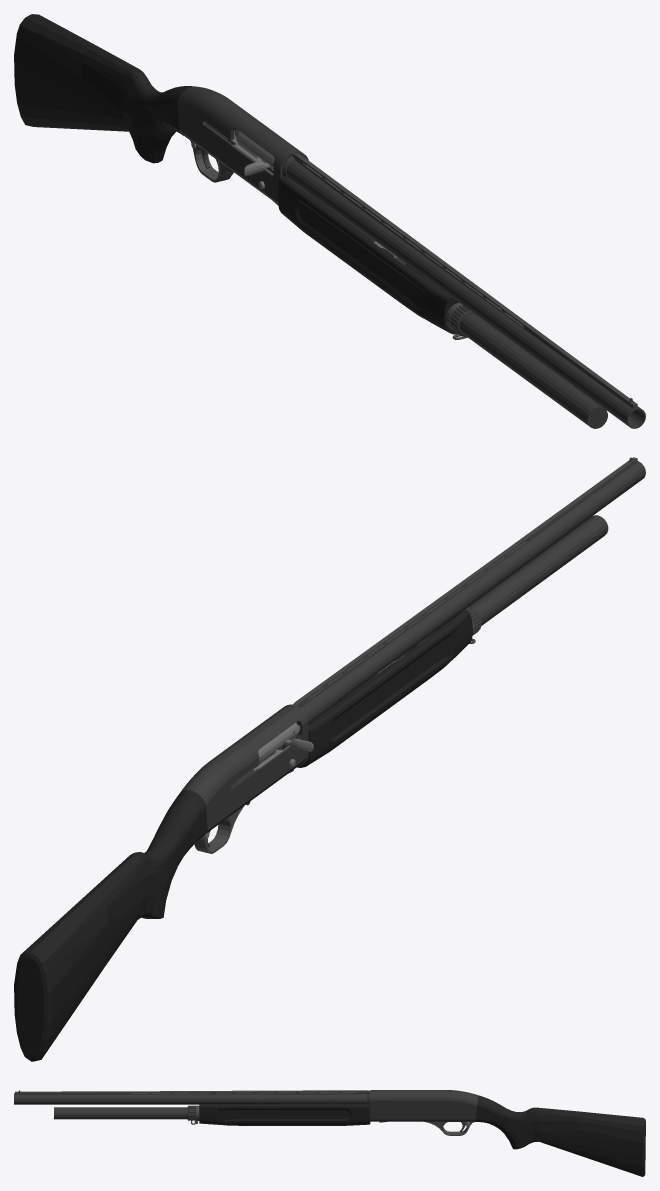
The model's file is MP153 World.fbx.
3 renders of one model, top to bottom at view 1: azimuth 30°, elevation 25°; view 2: azimuth 150°, elevation 25°; view 3: azimuth 270°, elevation 25°, orthographic. The views are drawn at different scales.
Visible parts, largest first — view 1: wpn_mp153_hud.ogf 00; view 2: wpn_mp153_hud.ogf 00; view 3: wpn_mp153_hud.ogf 00.
Boxes of the visible parts, bbox=[...] form: wpn_mp153_hud.ogf 00: bbox=[14, 14, 645, 428]; wpn_mp153_hud.ogf 00: bbox=[14, 457, 645, 1061]; wpn_mp153_hud.ogf 00: bbox=[14, 1090, 645, 1176].
Size of the model in its own units: 7.34 by 21.99 by 146.
